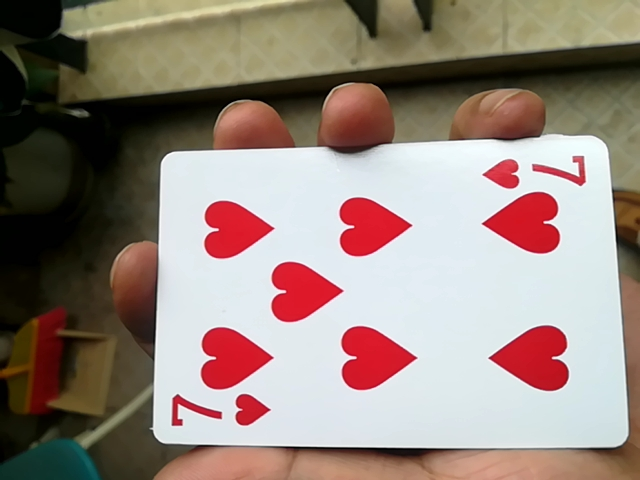hx 7: (139, 136, 618, 452)
